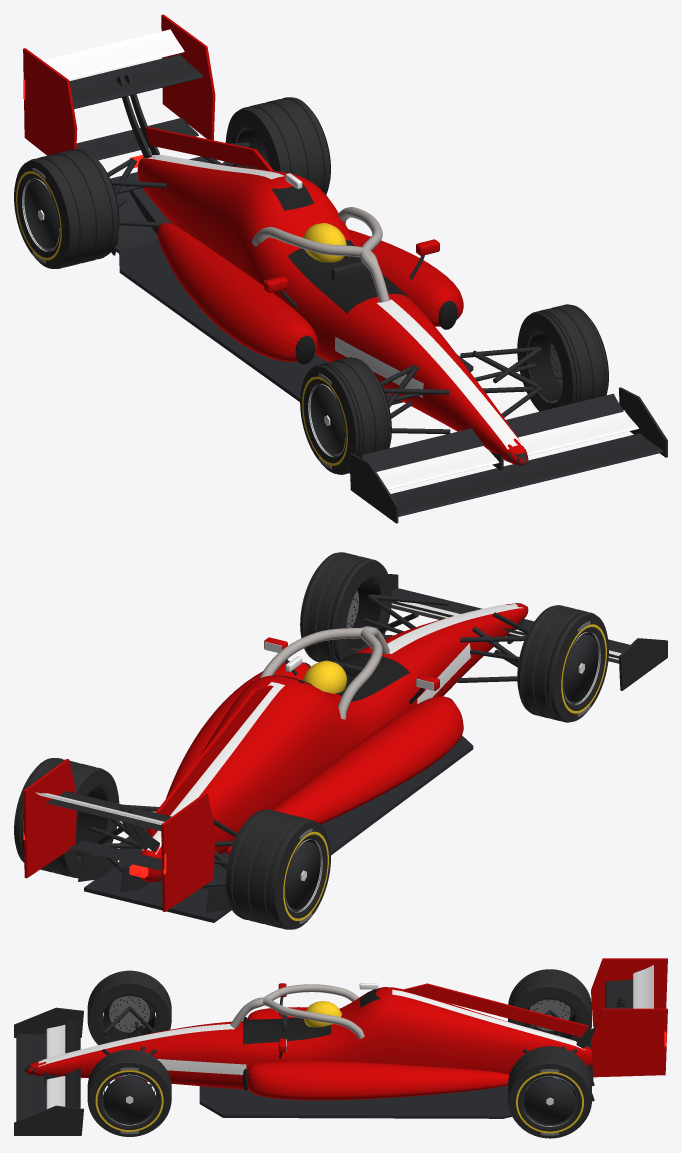
3 renders of one model, top to bottom at view 1: azimuth 30°, elevation 25°; view 2: azimuth 150°, elevation 25°; view 3: azimuth 270°, elevation 25°, orthographic. The views are drawn at different scales.
Visible parts, largest first — view 1: Body, Wheel_RR, Wheel_FR, Wheel_FL, Wheel_RL; view 2: Body, Wheel_RR, Wheel_FR, Wheel_FL, Wheel_RL; view 3: Body, Wheel_RL, Wheel_FL, Wheel_FR, Wheel_RR.
Boxes of the visible parts, x1=… form: Body: x1=23, y1=14, x2=667, y2=523; Wheel_RR: x1=14, y1=149, x2=119, y2=268; Wheel_FR: x1=300, y1=357, x2=391, y2=474; Wheel_FL: x1=517, y1=304, x2=608, y2=411; Wheel_RL: x1=225, y1=97, x2=330, y2=194; Body: x1=23, y1=574, x2=667, y2=922; Wheel_RR: x1=225, y1=809, x2=330, y2=929; Wheel_FR: x1=517, y1=605, x2=608, y2=722; Wheel_FL: x1=300, y1=552, x2=391, y2=662; Wheel_RL: x1=14, y1=758, x2=119, y2=878; Body: x1=14, y1=958, x2=667, y2=1135; Wheel_RL: x1=508, y1=1046, x2=591, y2=1138; Wheel_FL: x1=87, y1=1049, x2=171, y2=1136; Wheel_FR: x1=87, y1=970, x2=171, y2=1044; Wheel_RR: x1=508, y1=969, x2=591, y2=1041.
Size of the model in its own units: 2 by 1.04 by 5.6.
